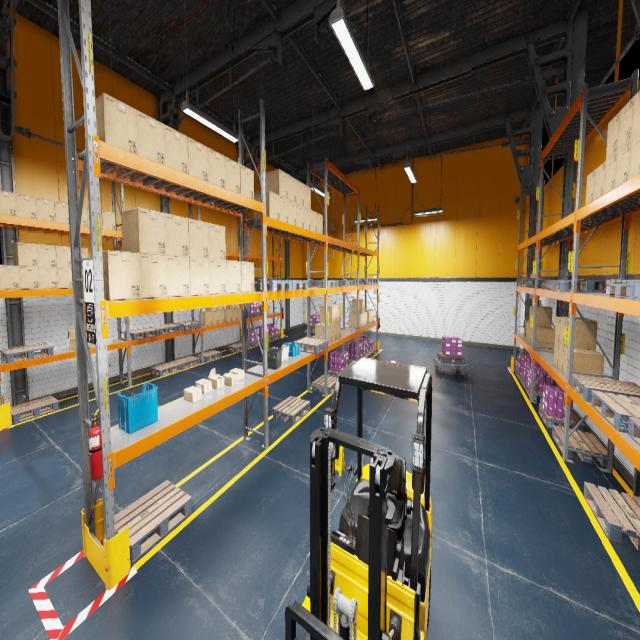box: (95, 93, 138, 154), (122, 207, 166, 255), (102, 250, 142, 301), (137, 110, 165, 164), (140, 253, 168, 298), (563, 348, 604, 378), (560, 318, 598, 350), (164, 124, 188, 174), (165, 213, 189, 257), (167, 255, 190, 297), (554, 316, 588, 343), (617, 97, 634, 151), (188, 137, 208, 181), (188, 219, 209, 258), (189, 257, 210, 295), (615, 140, 631, 188), (254, 190, 279, 220), (208, 147, 225, 188), (606, 111, 620, 160), (265, 169, 288, 198), (208, 223, 226, 259), (13, 242, 38, 266), (209, 259, 226, 294), (225, 156, 240, 194), (628, 133, 640, 179), (68, 328, 92, 351), (604, 152, 617, 194), (16, 193, 37, 219), (530, 326, 554, 348), (226, 260, 241, 294), (240, 164, 254, 199), (19, 266, 40, 289), (594, 160, 606, 200), (0, 265, 20, 289), (36, 197, 55, 222), (529, 306, 552, 326), (0, 190, 17, 217), (631, 90, 640, 140), (38, 266, 58, 288), (38, 244, 56, 267), (241, 261, 254, 292), (528, 324, 546, 344), (586, 170, 596, 205), (56, 245, 71, 268), (54, 201, 69, 224), (315, 323, 332, 343), (208, 368, 224, 389), (320, 304, 336, 324), (57, 267, 72, 288), (87, 207, 102, 228), (101, 210, 116, 230), (184, 386, 202, 402), (195, 378, 212, 394), (327, 303, 341, 322), (288, 174, 296, 203), (223, 372, 238, 387), (280, 195, 288, 223), (558, 344, 565, 374), (296, 180, 304, 206), (296, 203, 304, 228), (288, 200, 296, 225), (349, 313, 362, 328), (352, 299, 365, 313), (199, 311, 212, 325), (229, 368, 244, 380), (553, 341, 559, 369), (304, 207, 311, 230), (80, 206, 88, 226), (304, 184, 310, 209), (81, 248, 88, 267), (310, 210, 316, 232), (317, 213, 323, 234), (259, 304, 270, 315), (365, 310, 375, 322), (224, 309, 232, 322), (523, 319, 529, 336), (332, 322, 337, 342), (336, 321, 341, 339), (218, 310, 224, 323), (212, 311, 218, 324), (231, 308, 237, 320), (205, 306, 218, 311), (226, 304, 237, 309), (526, 322, 528, 342), (82, 268, 84, 287), (238, 308, 241, 320), (365, 312, 367, 325), (362, 313, 364, 326), (218, 306, 224, 310)
forklift: (302, 357, 432, 639)
pallets: (115, 480, 191, 564), (583, 482, 640, 550), (551, 425, 607, 467), (590, 390, 640, 432), (570, 374, 640, 402), (538, 403, 586, 432), (11, 395, 58, 424), (0, 343, 54, 363), (273, 396, 310, 424), (553, 280, 606, 292), (293, 337, 328, 354), (605, 280, 635, 299), (546, 280, 598, 290), (520, 374, 552, 389), (525, 383, 551, 401), (312, 375, 336, 394), (124, 327, 159, 340), (151, 362, 181, 376), (254, 280, 292, 291), (150, 323, 181, 335), (172, 356, 200, 369), (436, 351, 464, 364), (628, 416, 640, 446), (197, 350, 222, 362), (522, 277, 556, 285), (174, 320, 201, 330), (285, 280, 308, 290), (311, 280, 338, 287), (227, 343, 248, 352), (348, 356, 366, 365), (634, 280, 640, 300), (247, 340, 262, 347), (260, 336, 272, 344), (353, 278, 372, 283), (246, 312, 261, 318), (368, 347, 377, 356), (515, 367, 521, 380), (328, 370, 339, 377), (268, 334, 280, 340), (362, 351, 372, 358), (338, 280, 346, 286), (347, 280, 355, 286), (541, 280, 546, 288), (372, 278, 378, 283), (518, 278, 522, 284), (310, 326, 314, 331)
